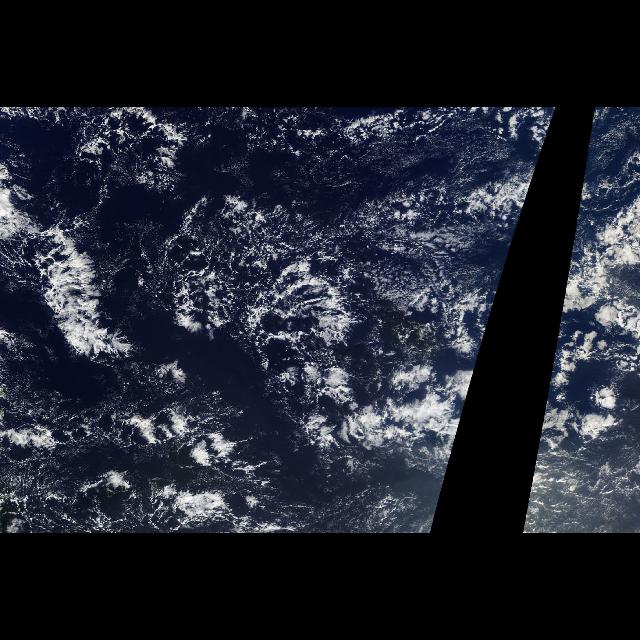Gravel: (2, 109, 558, 532), (522, 109, 638, 532)
